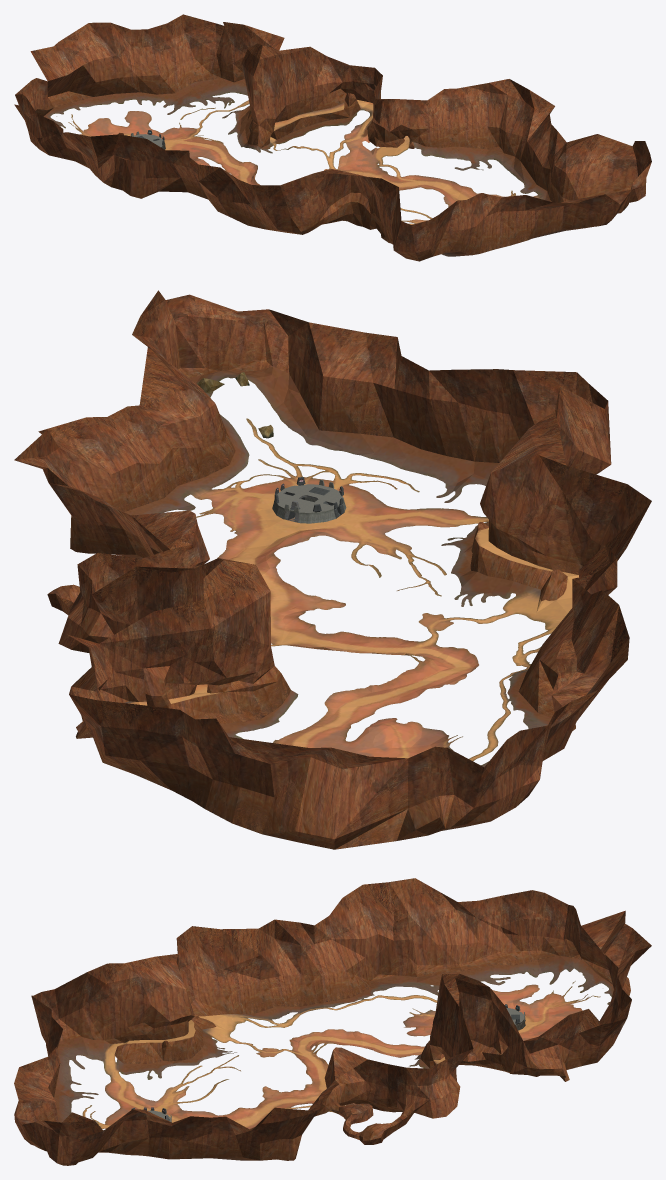
File: bloodgulch.fbx
3 views of the same model, one above another, from view 1: azimuth 30°, elevation 25°; view 2: azimuth 150°, elevation 25°; view 3: azimuth 270°, elevation 25° (orthographic). The views are drawn at different scales.
Visible parts, largest first — view 1: Clusters_000, Clusters_001, Clusters_004, Clusters_002; view 2: Clusters_000, Clusters_001, Clusters_004, Clusters_007; view 3: Clusters_000, Clusters_001, Clusters_004, Clusters_003.
Part boxes in pixels (<box>): Clusters_000: <box>14,14,651,261</box>; Clusters_001: <box>43,78,649,256</box>; Clusters_004: <box>350,65,382,139</box>; Clusters_002: <box>270,93,360,139</box>; Clusters_000: <box>47,294,651,849</box>; Clusters_001: <box>14,290,578,830</box>; Clusters_004: <box>58,552,141,649</box>; Clusters_007: <box>272,477,346,523</box>; Clusters_000: <box>14,878,651,1162</box>; Clusters_001: <box>25,955,613,1165</box>; Clusters_004: <box>383,1059,456,1118</box>; Clusters_003: <box>338,1103,414,1144</box>.
Bounding box in the file's own units: 12600 × 2658 × 14516.
42 materials, 42 textured.
